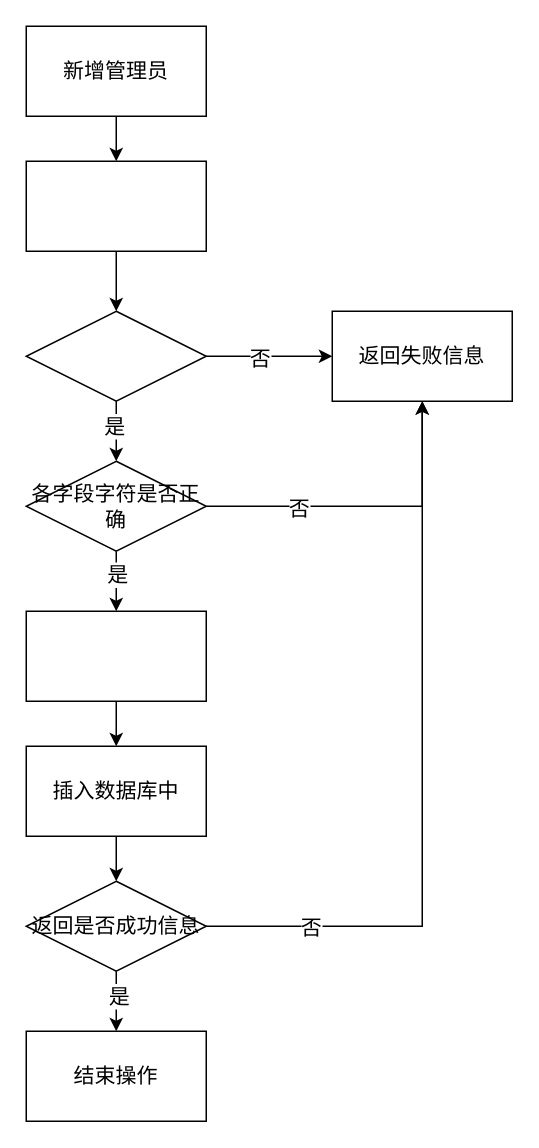
Some shapes in this 539 by 1148 pixel diagram are drawn without their labels. The shapes that lost their labels are listed below. From the top down, each one's centre as x and y in pixels, then its label:
At pixel 115 205: "录入管理员基本信息".
At pixel 115 355: "验证信息是否完整".
At pixel 115 655: "生成数据库插入语句".
